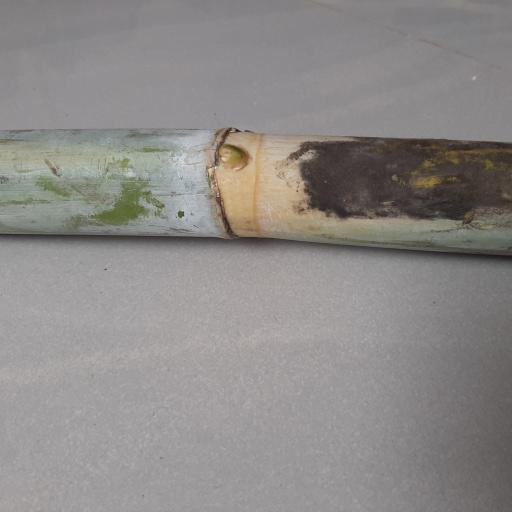Bud: (215, 144, 249, 170)
